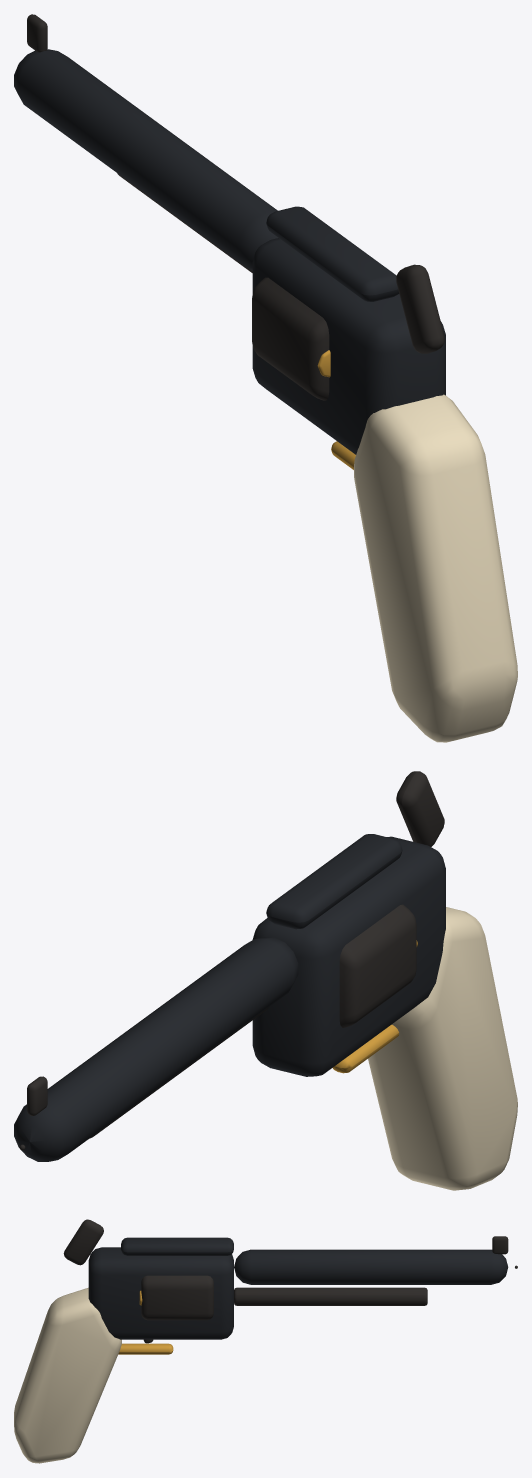
Rendered from revolver.glb.
The picture shows the model from 3 angles, top to bottom: view 1: azimuth 30°, elevation 25°; view 2: azimuth 150°, elevation 25°; view 3: azimuth 270°, elevation 25°; orthographic projection. The views are drawn at different scales.
Visible parts, largest first — view 1: grip, barrel, frame, cyl_body, topstrap, hammer; view 2: grip, frame, barrel, cyl_body, topstrap, hammer, trigger_guard, front_sight; view 3: grip, barrel, frame, ejector, cyl_body, topstrap, hammer, trigger_guard, front_sight.
Boxes of the visible parts, x1,y1,x2,y2 form: grip: [354, 394, 517, 742]; barrel: [14, 49, 278, 270]; frame: [252, 238, 445, 454]; cyl_body: [252, 277, 329, 400]; topstrap: [266, 206, 399, 301]; hammer: [396, 264, 444, 353]; grip: [368, 907, 517, 1190]; frame: [252, 836, 445, 1076]; barrel: [14, 937, 298, 1161]; cyl_body: [339, 904, 416, 1027]; topstrap: [266, 834, 402, 929]; hammer: [396, 771, 444, 846]; trigger_guard: [332, 1024, 399, 1073]; front_sight: [27, 1076, 47, 1115]; grip: [14, 1287, 121, 1463]; barrel: [234, 1249, 508, 1284]; frame: [88, 1247, 233, 1339]; ejector: [234, 1287, 427, 1305]; cyl_body: [141, 1275, 213, 1320]; topstrap: [121, 1237, 233, 1255]; hammer: [63, 1219, 103, 1265]; trigger_guard: [118, 1343, 173, 1354]; front_sight: [492, 1236, 508, 1254].
Size of the model in its own units: 0.0416 by 0.162 by 0.3123.
